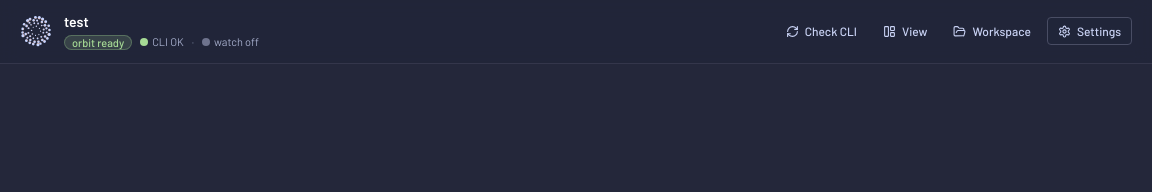
Test case: AppHeader menus › closes workspace menu when view menu opens
Click the button "Workspace": (992, 31) [943, 17, 1041, 45]
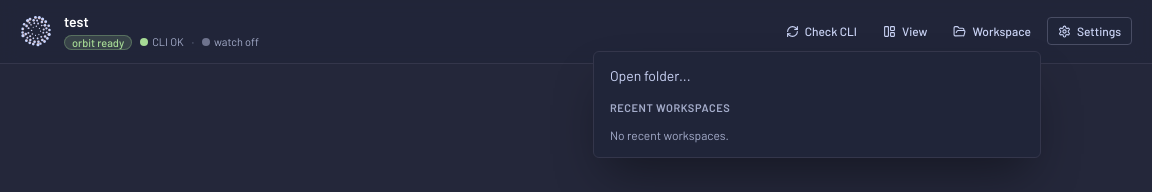
Check: the button "Open folder..." is shown, box [602, 60, 1032, 92]
Click the button "View": (905, 31) [873, 17, 937, 45]
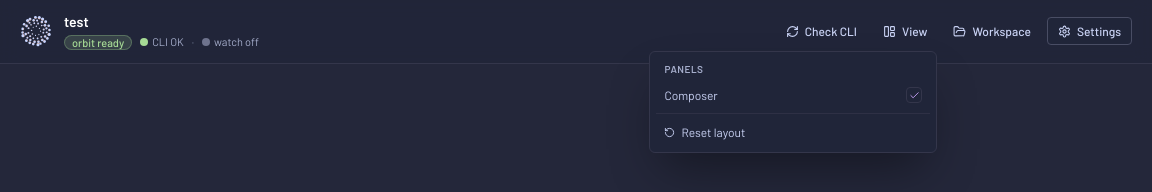
Check: the button "Open folder..." is gone
Check: the text "Panels" is shown, box [664, 63, 704, 75]
